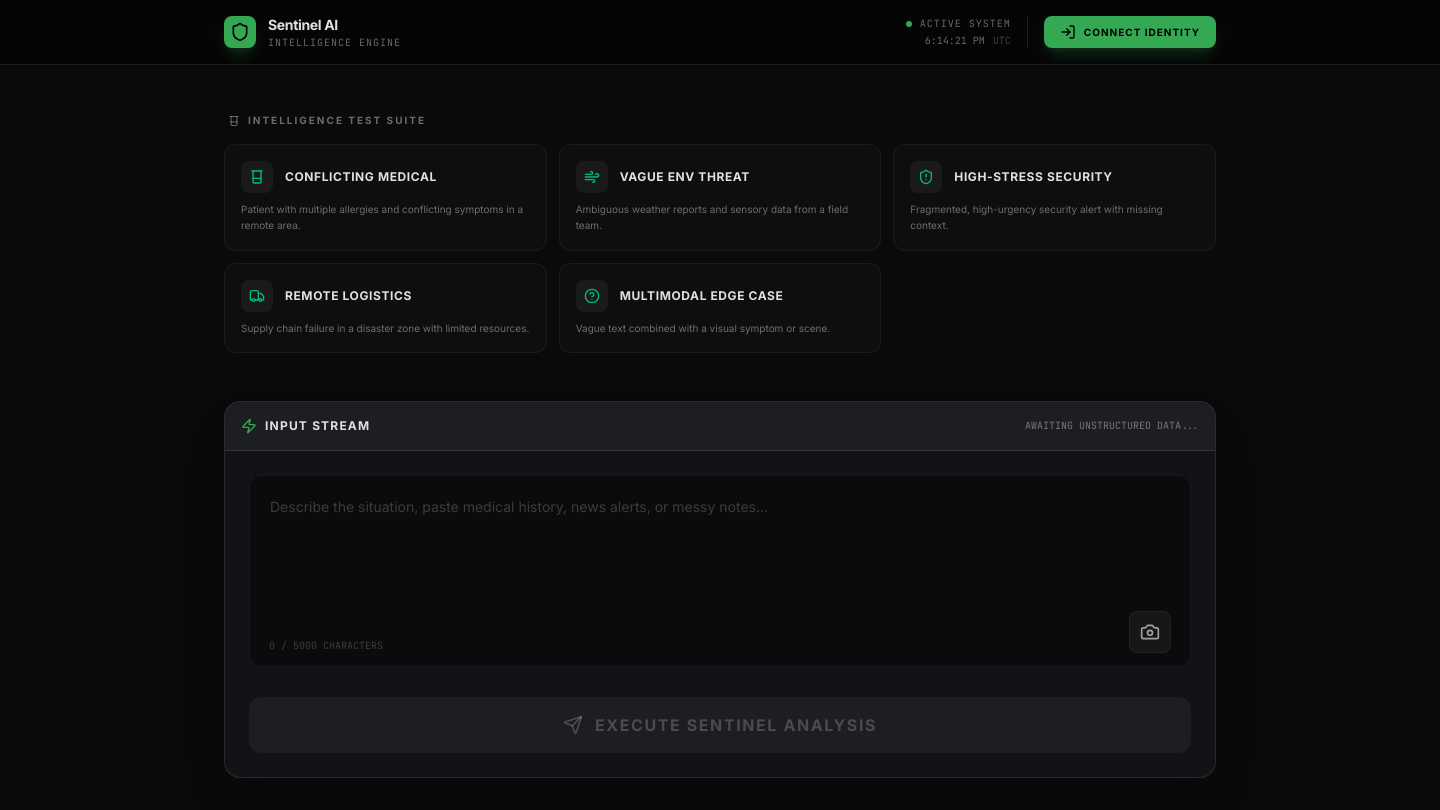
Test case: App Component › handles test case selection with media failure
The image size is (1440, 810).
Click the text "Multimodal Edge Case" at (702, 296), box [620,288,784,304]
(page scrolled)
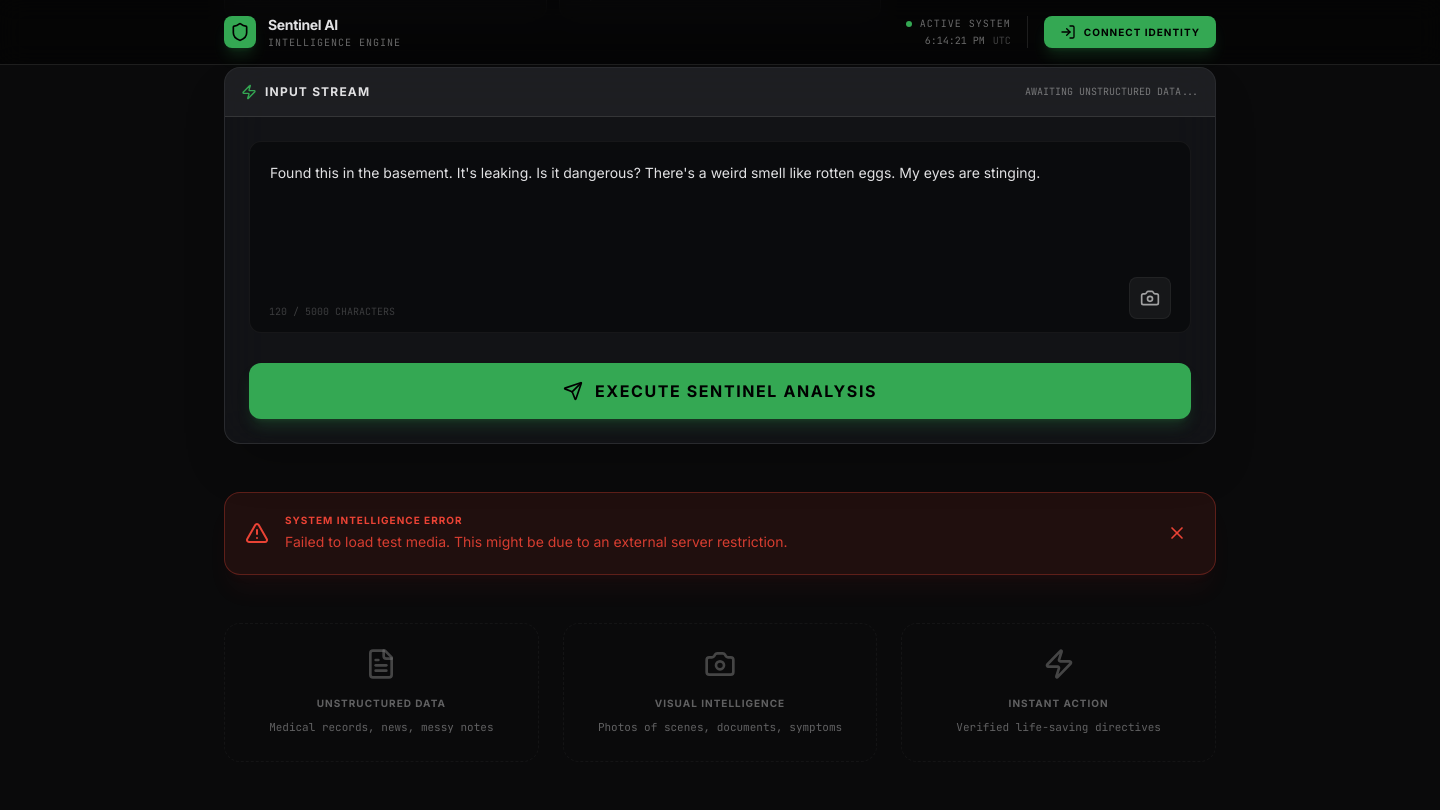
Check: the text "Failed to load test media" is shown, box [285,533,788,550]
